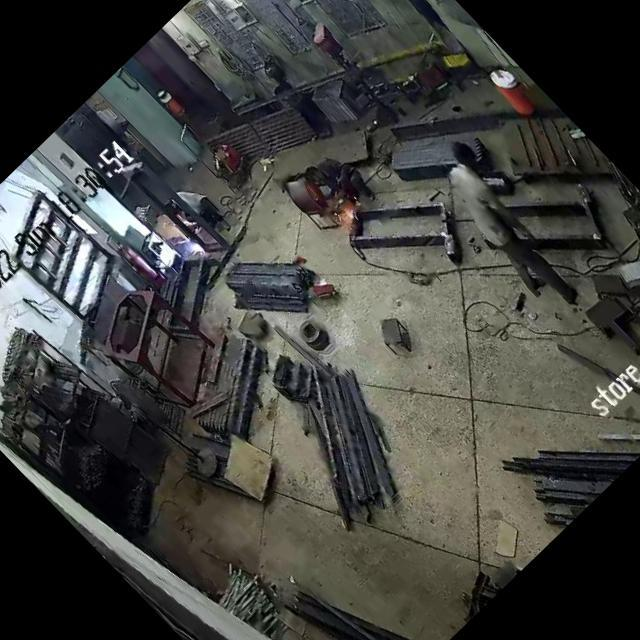person: (426, 136, 594, 309)
